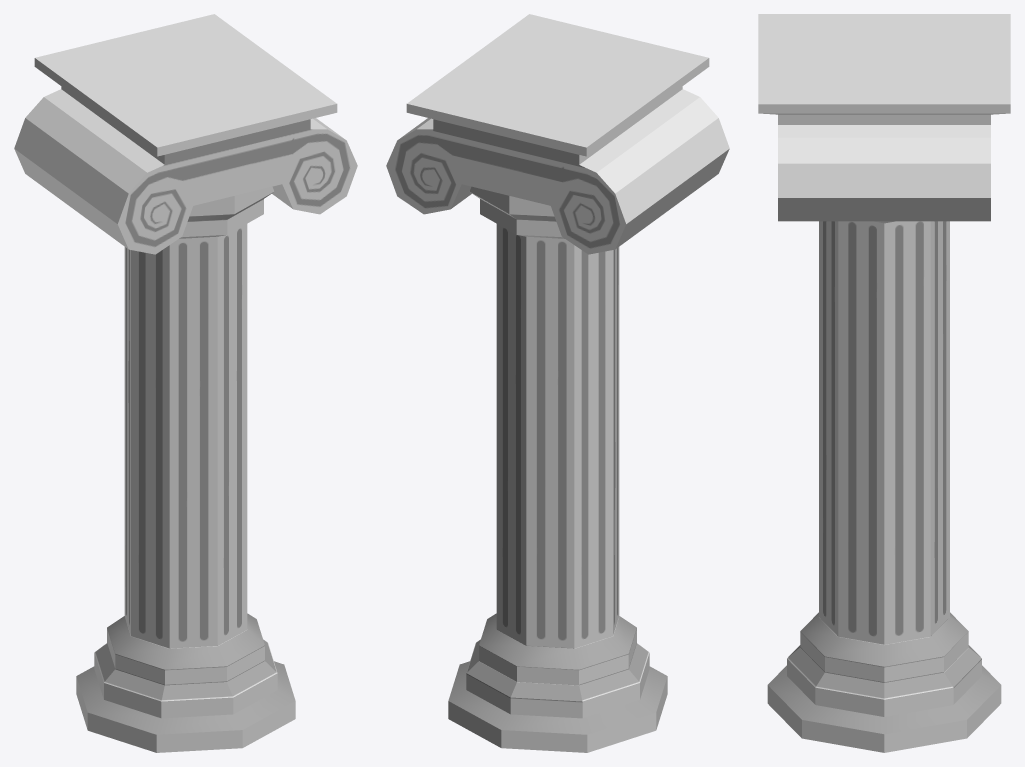
File: pillar.fbx
3 views of the same model, side by side, from view 1: azimuth 30°, elevation 25°; view 2: azimuth 150°, elevation 25°; view 3: azimuth 270°, elevation 25° (orthographic). The views are drawn at different scales.
Parts seen in each view (by area): view 1: pCylinder11; view 2: pCylinder11; view 3: pCylinder11.
Part boxes in pixels (x1,y1,x2,y2): pCylinder11: (14,14,357,752); pCylinder11: (386,14,729,752); pCylinder11: (758,14,1010,752).
Bounding box in the file's own units: 0.368 × 0.9166 × 0.3256.
